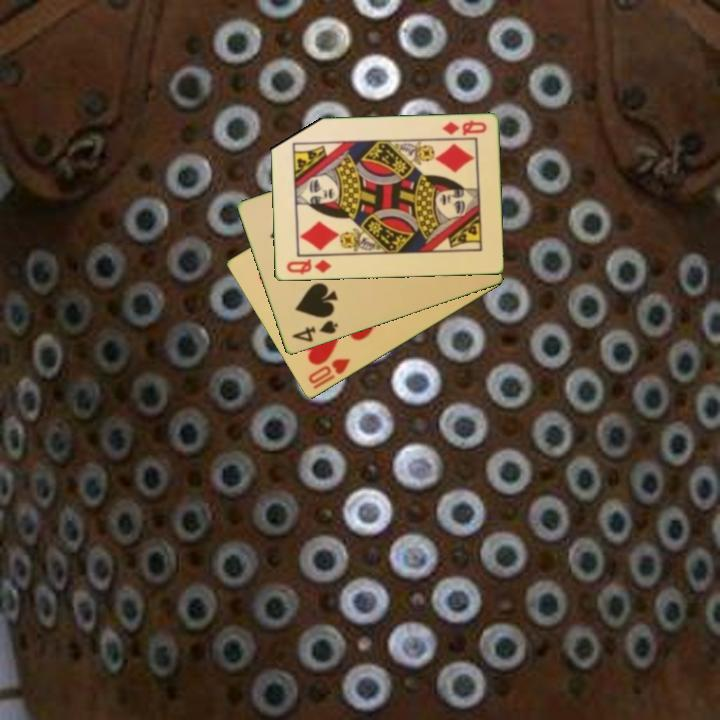10h: (305, 355, 353, 392)
4s: (288, 317, 341, 345)
Qd: (283, 256, 334, 278), (439, 117, 489, 139)
